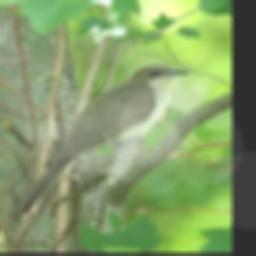Cuckoo: (7, 63, 190, 224)
